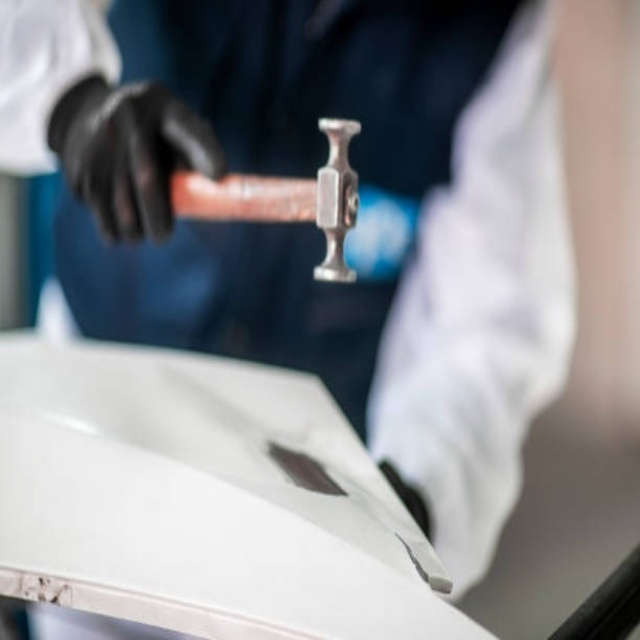Guantes: (50, 73, 228, 249)
